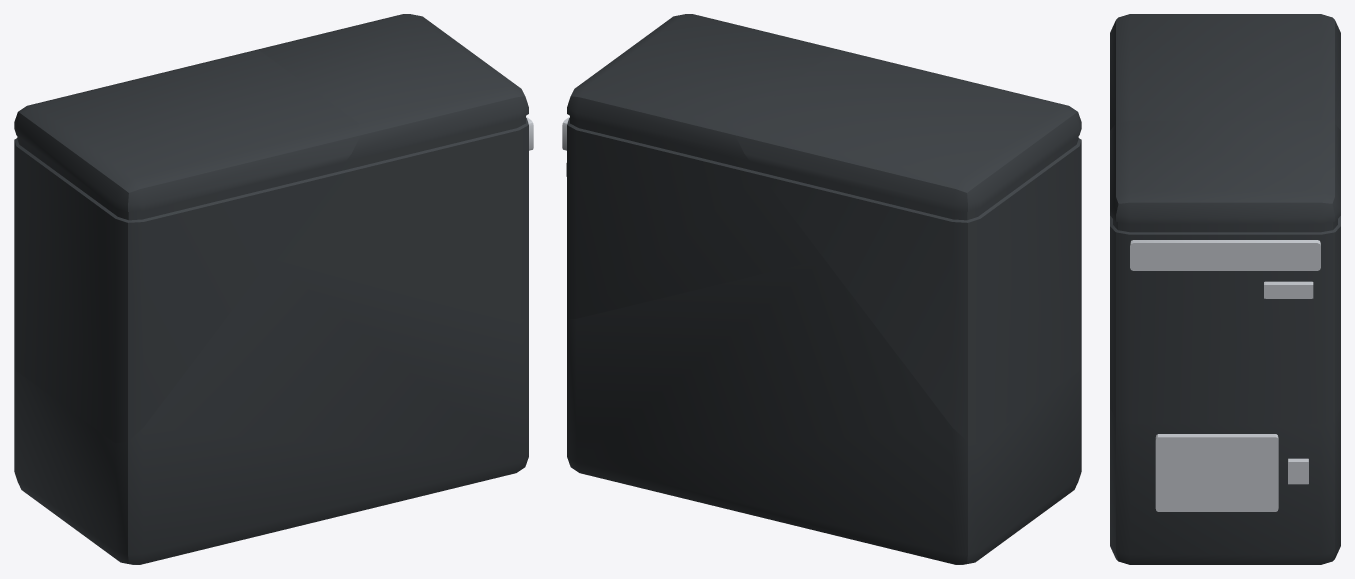
File: Pc_Case_Broken.fbx
3 renders of one model, left to right at view 1: azimuth 30°, elevation 25°; view 2: azimuth 150°, elevation 25°; view 3: azimuth 270°, elevation 25°, orthographic. The views are drawn at different scales.
Visible parts, largest first — view 1: PCCase.005, PCCase.003, PCCase.002; view 2: PCCase.005, PCCase.003, PCCase.002; view 3: PCCase.002, PCCase.005, PCCase.003.
Boxes of the visible parts, left/top/right/bottom form: PCCase.005: left=14, top=259, right=528, bottom=564; PCCase.003: left=14, top=50, right=360, bottom=443; PCCase.002: left=248, top=14, right=533, bottom=319; PCCase.005: left=567, top=259, right=1081, bottom=564; PCCase.003: left=735, top=50, right=1081, bottom=443; PCCase.002: left=562, top=14, right=847, bottom=319; PCCase.002: left=1110, top=120, right=1340, bottom=424; PCCase.005: left=1110, top=408, right=1340, bottom=564; PCCase.003: left=1110, top=14, right=1340, bottom=130.
Bounding box in the file's own units: 113 × 100 × 56.23.
